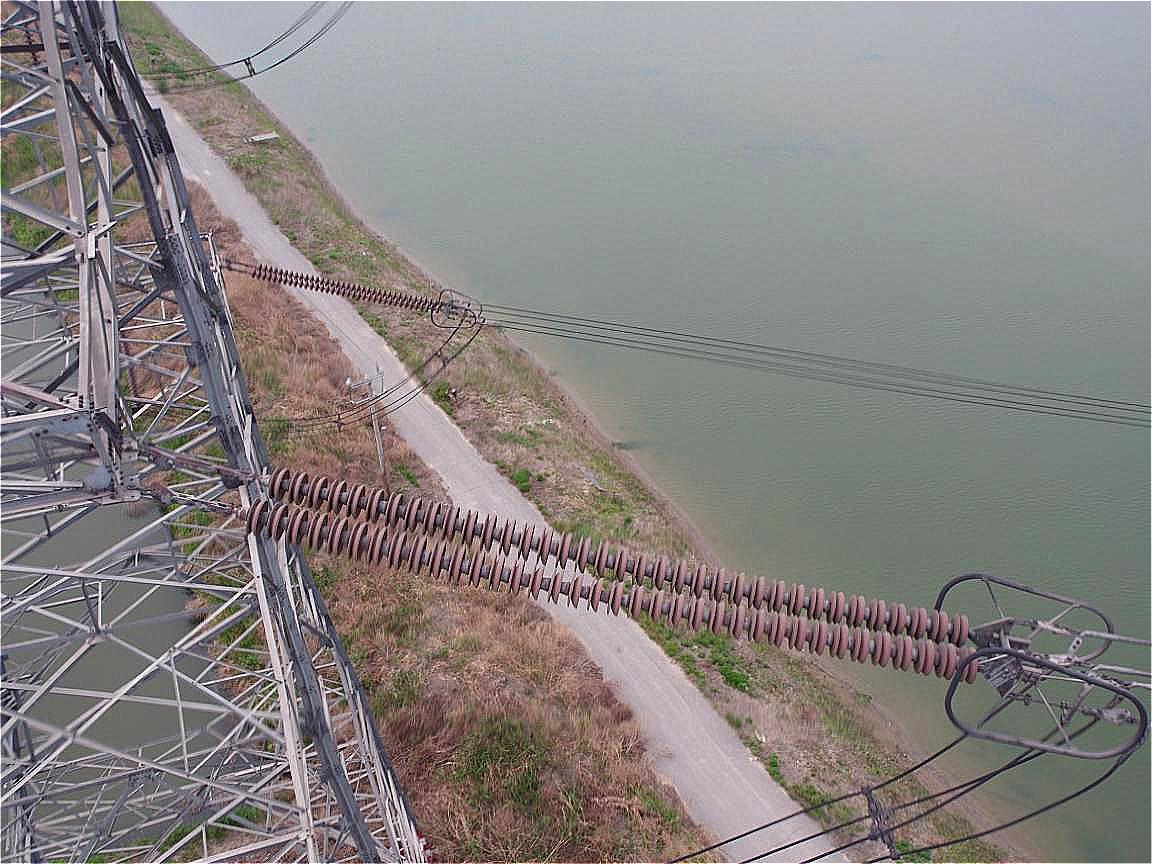insultor1: (236, 255, 435, 315)
insultor2: (202, 455, 1022, 696)
